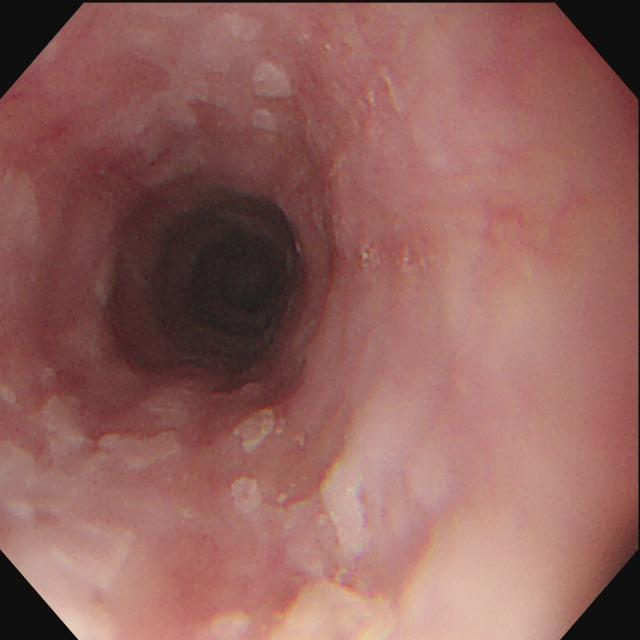E: (183, 218, 294, 344)
J: (2, 390, 195, 640), (230, 381, 366, 564), (130, 18, 296, 139)
